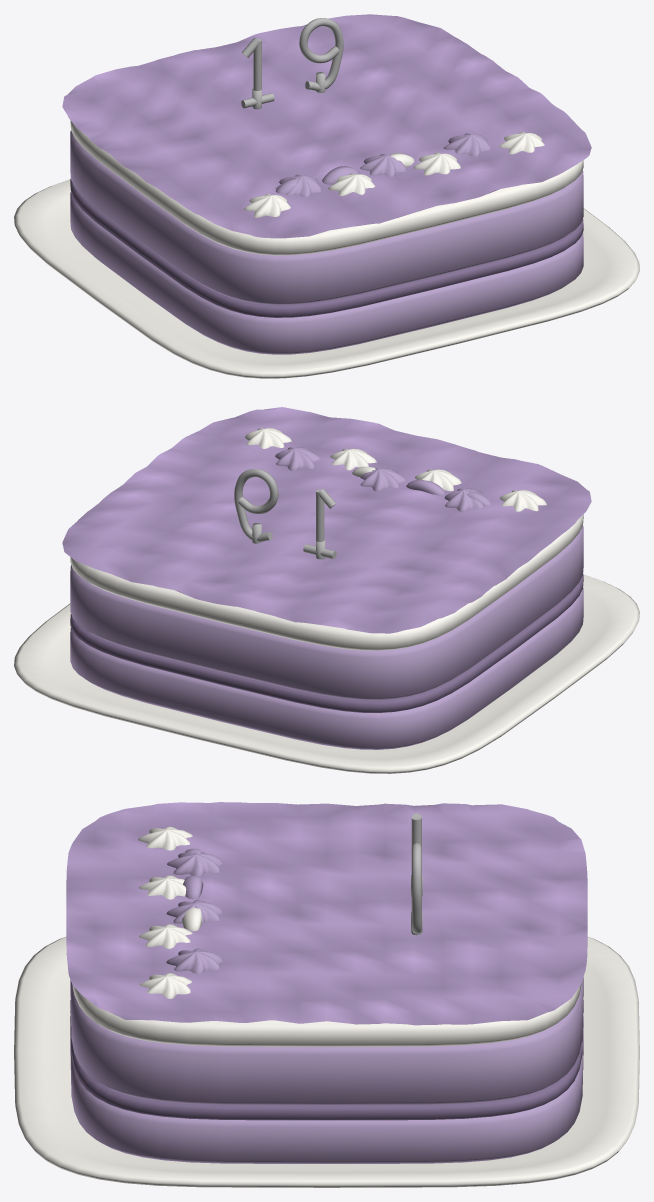
The model's file is cake-19.7d2f1d708561.glb.
3 renders of one model, top to bottom at view 1: azimuth 30°, elevation 25°; view 2: azimuth 150°, elevation 25°; view 3: azimuth 270°, elevation 25°, orthographic. The views are drawn at different scales.
Parts seen in each view (by area): view 1: Irregular_hand_spread_food_surface, PART_FOOD_ROOT_MAT_taro, Clean_porcelain_plate, PART_FOOD_ROOT_MAT_cream, Edible_sponge_and_filling_1, PART_FOOD_ROOT_MAT_satin_silver_wax; view 2: Irregular_hand_spread_food_surface, PART_FOOD_ROOT_MAT_taro, Clean_porcelain_plate, PART_FOOD_ROOT_MAT_cream, Edible_sponge_and_filling_1, PART_FOOD_ROOT_MAT_satin_silver_wax; view 3: Irregular_hand_spread_food_surface, PART_FOOD_ROOT_MAT_taro, Clean_porcelain_plate, PART_FOOD_ROOT_MAT_cream, Edible_sponge_and_filling_1, PART_FOOD_ROOT_MAT_satin_silver_wax.
Boxes of the visible parts, left/top/right/bottom form: Irregular_hand_spread_food_surface: left=62, top=14, right=591, bottom=238; PART_FOOD_ROOT_MAT_taro: left=70, top=130, right=583, bottom=354; Clean_porcelain_plate: left=14, top=179, right=639, bottom=378; PART_FOOD_ROOT_MAT_cream: left=70, top=120, right=583, bottom=255; Edible_sponge_and_filling_1: left=70, top=178, right=583, bottom=317; PART_FOOD_ROOT_MAT_satin_silver_wax: left=241, top=18, right=343, bottom=109; Irregular_hand_spread_food_surface: left=62, top=407, right=591, bottom=633; PART_FOOD_ROOT_MAT_taro: left=70, top=447, right=583, bottom=749; Clean_porcelain_plate: left=14, top=574, right=639, bottom=773; PART_FOOD_ROOT_MAT_cream: left=70, top=428, right=583, bottom=650; Edible_sponge_and_filling_1: left=70, top=574, right=583, bottom=712; PART_FOOD_ROOT_MAT_satin_silver_wax: left=234, top=469, right=336, bottom=559; Irregular_hand_spread_food_surface: left=66, top=802, right=587, bottom=1025; PART_FOOD_ROOT_MAT_taro: left=70, top=848, right=583, bottom=1163; Clean_porcelain_plate: left=14, top=937, right=639, bottom=1187; PART_FOOD_ROOT_MAT_cream: left=72, top=826, right=581, bottom=1046; Edible_sponge_and_filling_1: left=70, top=1000, right=583, bottom=1120; PART_FOOD_ROOT_MAT_satin_silver_wax: left=411, top=813, right=422, bottom=935.
Size of the model in its own units: 0.1952 by 0.0822 by 0.1952.
